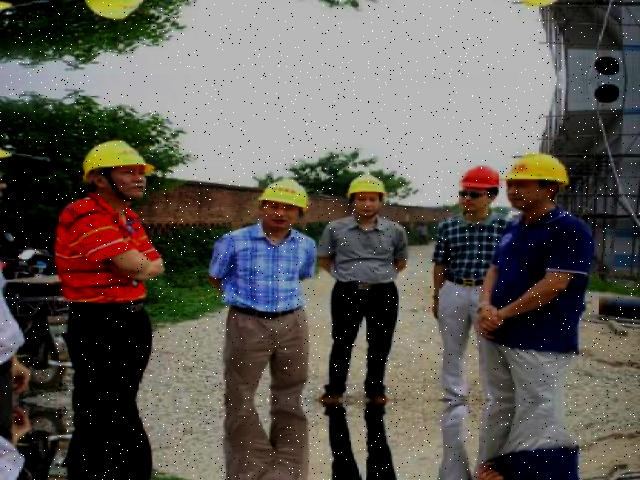Helmet: (76, 136, 161, 188), (501, 146, 577, 196), (256, 175, 316, 218), (344, 171, 394, 206), (458, 161, 507, 191)
